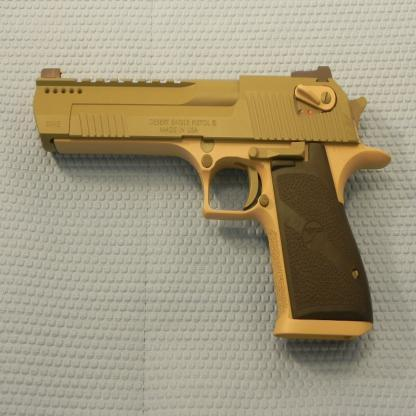Pistol: (33, 56, 392, 341)
